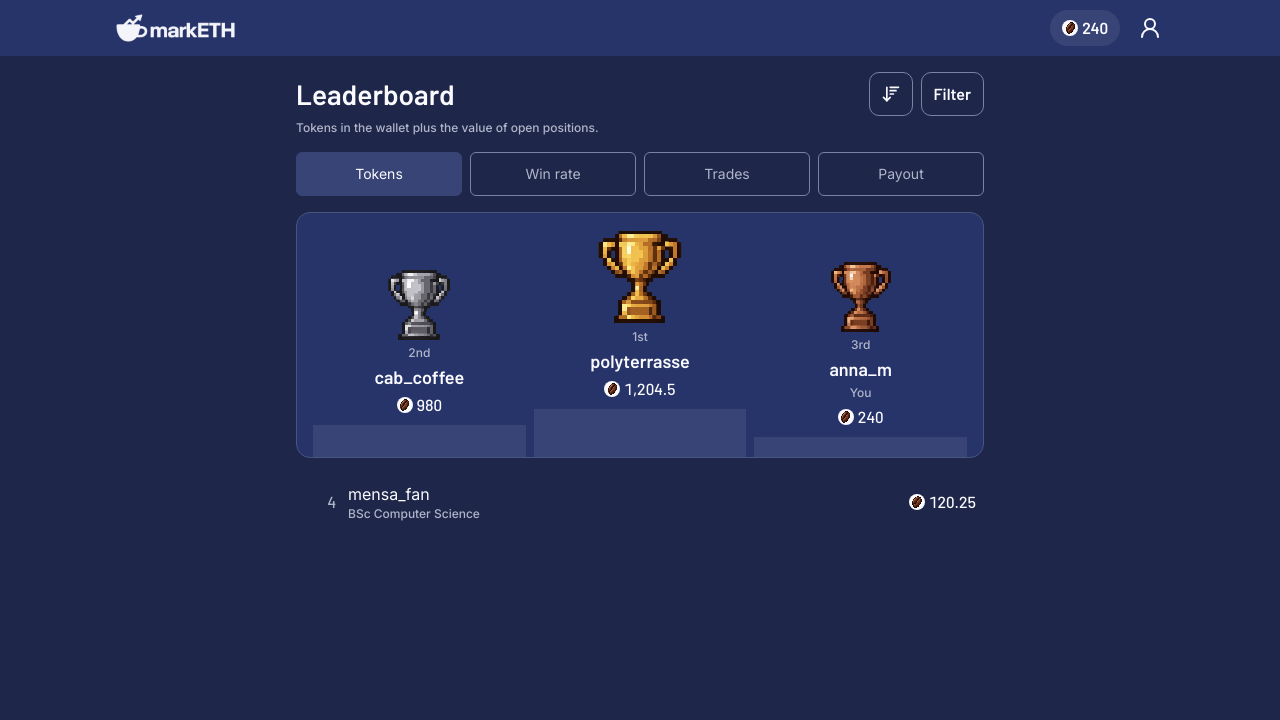
Scenario: what the sheet offers › one primary button, Show results, and a ghost Clear all with nothing to clear
Check: the element that starts with "1st" is shown, box x1=296 y1=212 x2=984 y2=530
Click the button "Filter" at (952, 94), box x1=921 y1=72 x2=984 y2=116
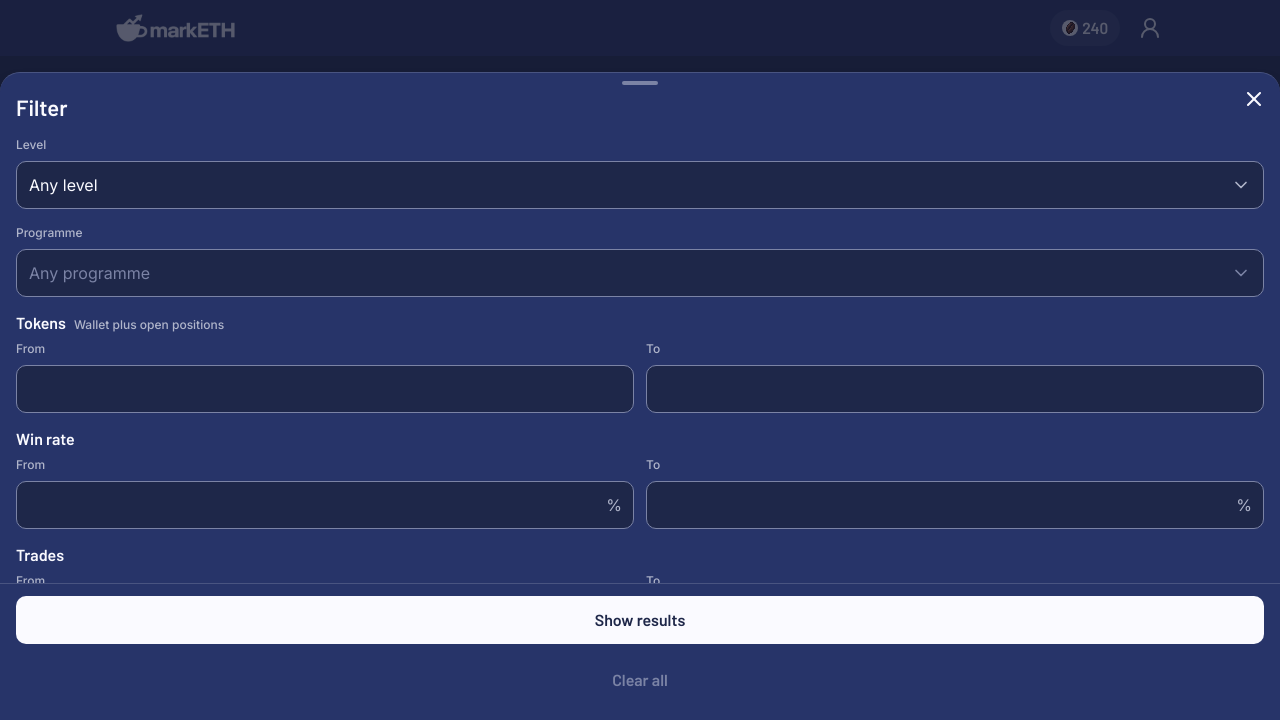
Check: the button "Clear all" is disabled, box x1=16 y1=656 x2=1264 y2=704
